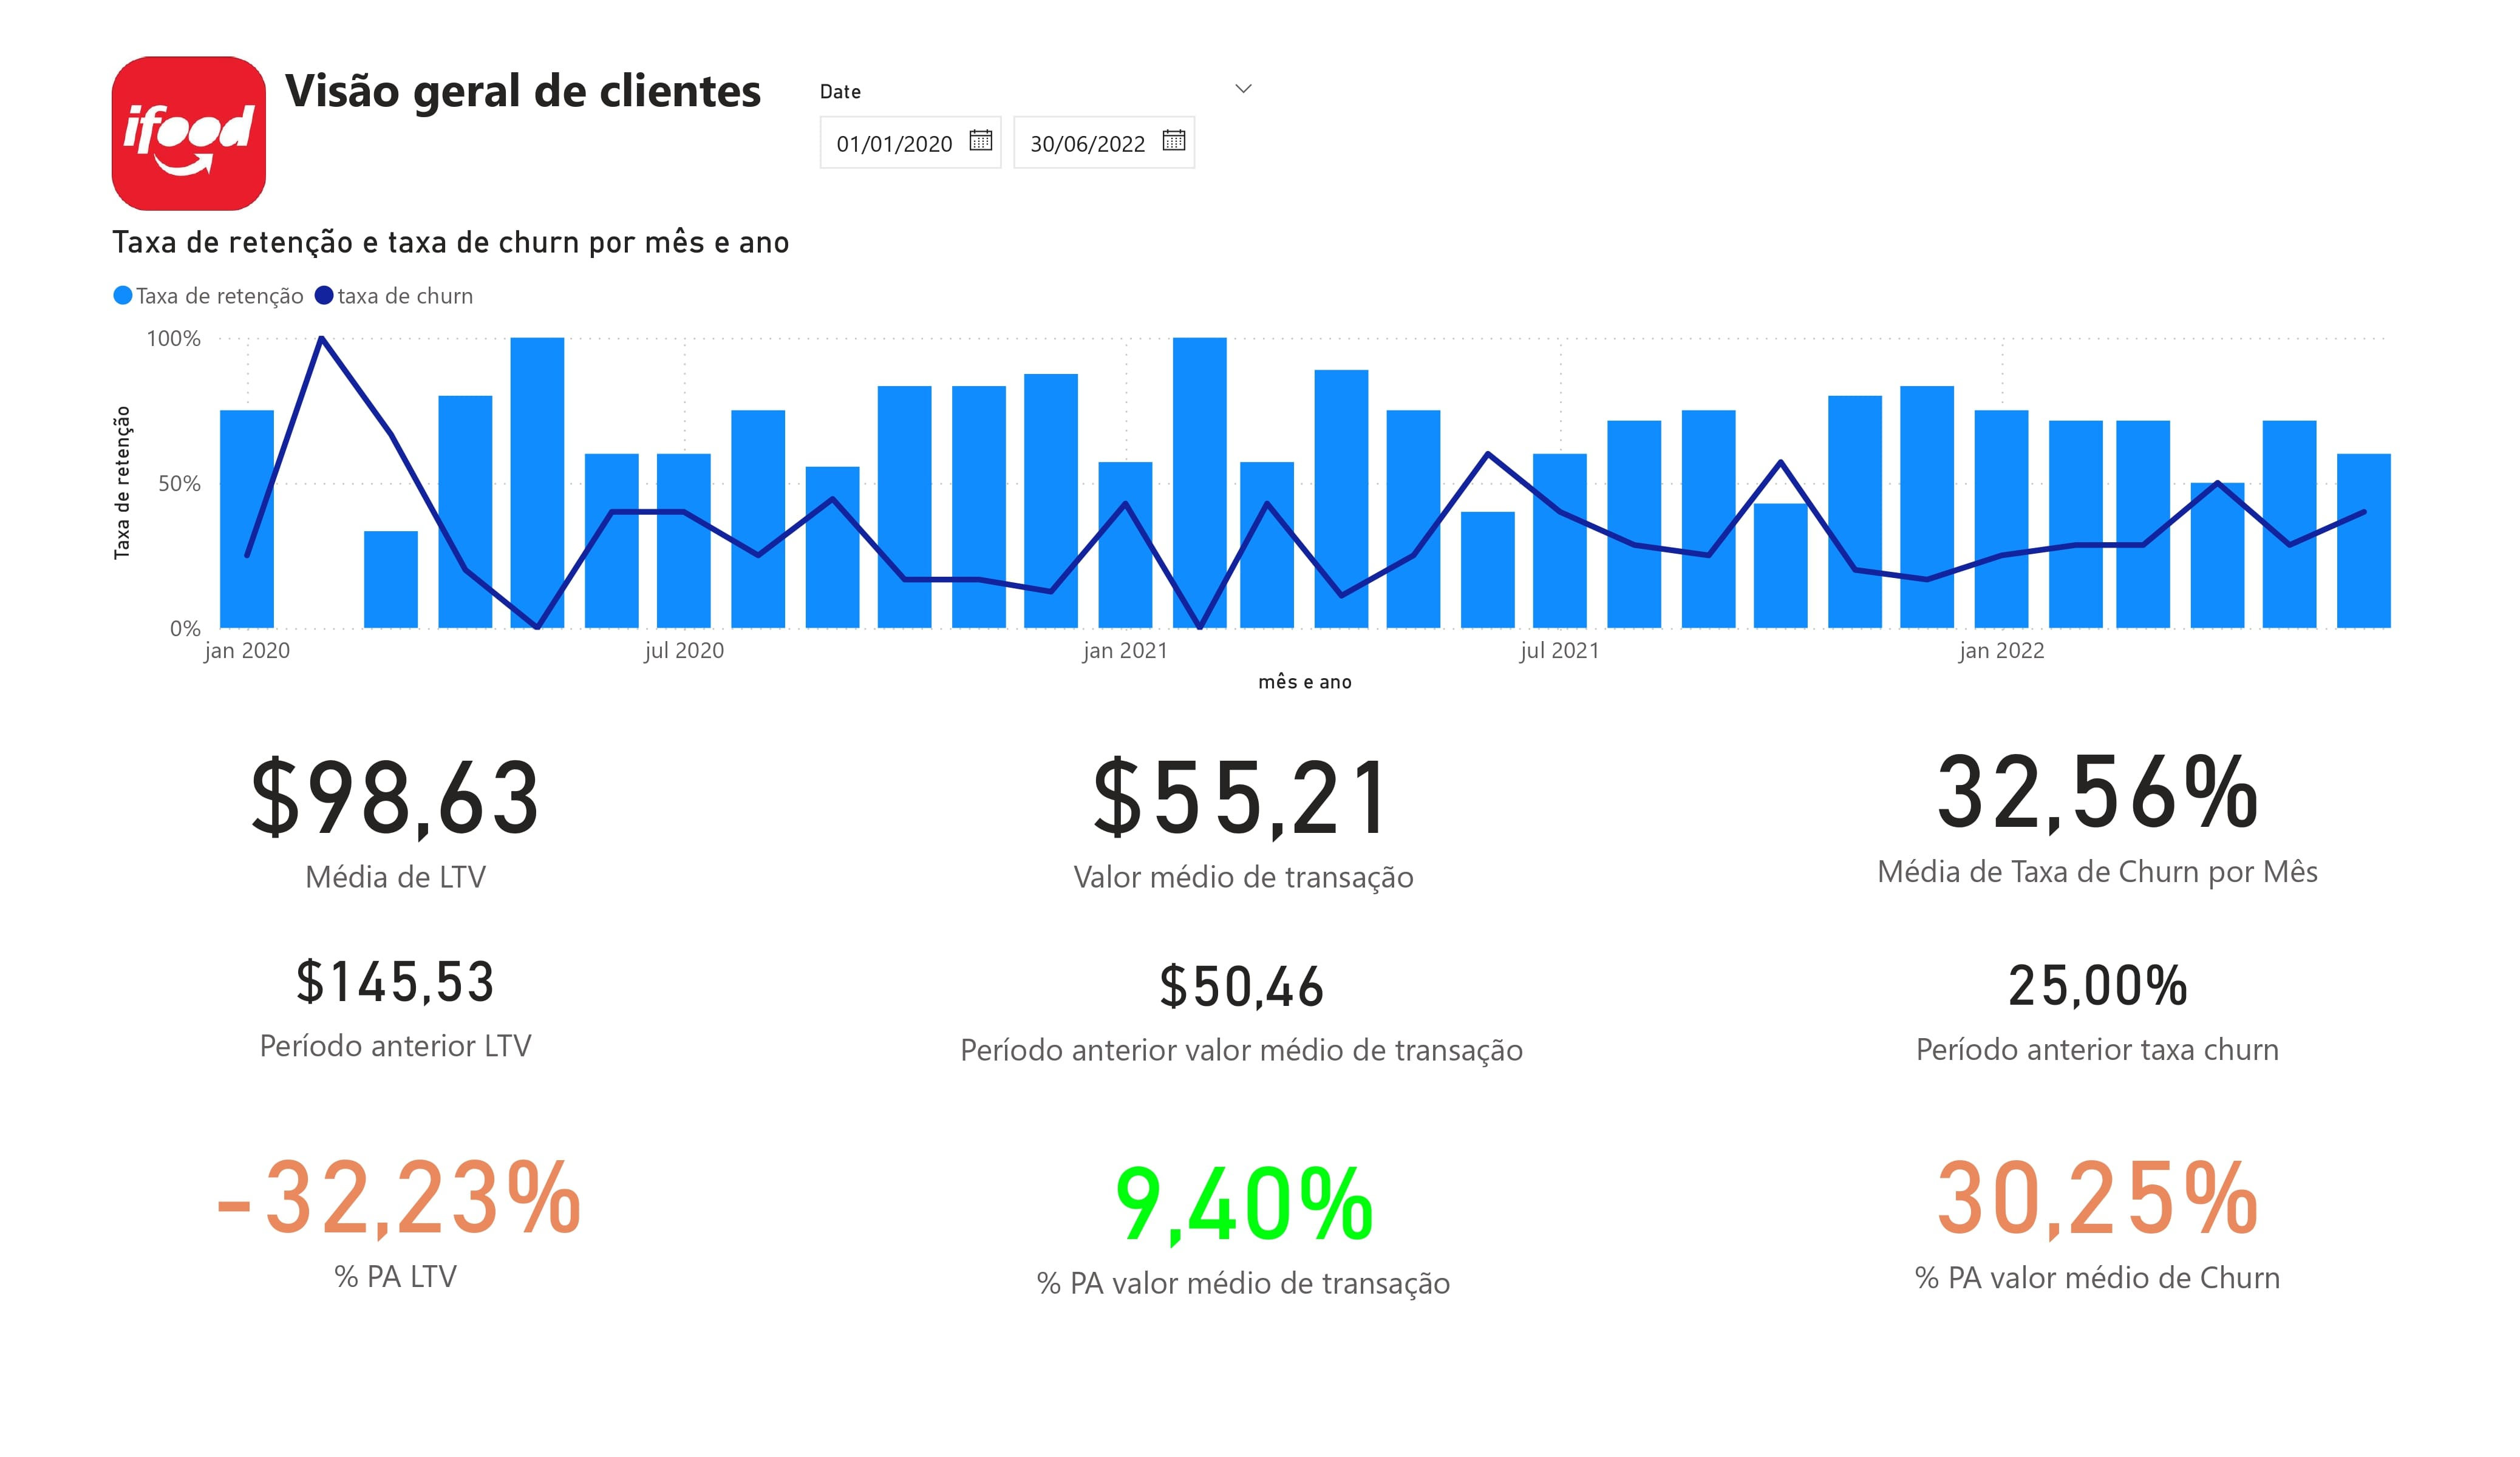

What the dashboard file says about the page in this screenshot:
{"tool":"powerbi","page":{"name":"Geral","canvas":[1280,720],"ordinal":0},"visuals":[{"type":"lineStackedColumnComboChart","fields":{"Category":["Tabela 1 (clientes).mes_ano.Variation.Hierarquia de datas.Ano"],"Y":["Tabela 1 (clientes).Taxa de retenção"],"Y2":["Tabela 1 (clientes).Taxa de Churn"]},"box":[29.6,93.2,1221.2,252.7],"z":0},{"type":"card","fields":{"Values":["Avg(Tabela 1 (clientes).LTV)"]},"box":[54,345.8,261.4,107.1],"z":1000},{"type":"slicer","fields":{"Values":["TabelaDatas.Date"]},"box":[395.3,12.7,254.1,63.5],"z":2000},{"type":"card","fields":{"Values":["Tabela 1 (clientes).Período anterior"]},"box":[53.6,450.4,261.2,103.1],"z":3000},{"type":"card","fields":{"Values":["Tabela 1 (clientes).% PA LTV"]},"box":[54,552.9,261.4,114.3],"z":4000},{"type":"card","fields":{"Values":["Avg(Tabela 1 (clientes).total_valor)"]},"box":[504.3,345.7,254.3,107.1],"z":5000},{"type":"card","fields":{"Values":["Tabela 1 (clientes).Período anterior valor médio de transação"]},"box":[458.8,450.4,343.1,107.3],"z":6000},{"type":"card","fields":{"Values":["Tabela 1 (clientes).% PA valor médio de transação"]},"box":[504.3,560,254.3,107.1],"z":7000},{"type":"card","fields":{"Values":["Tabela 1 (clientes).Média de Taxa de Churn por Mês"]},"box":[954.3,342.9,254.3,107.1],"z":8000},{"type":"card","fields":{"Values":["Tabela 1 (clientes).Período anterior taxa churn"]},"box":[954.3,450,254.3,107.1],"z":9000},{"type":"card","fields":{"Values":["Tabela 1 (clientes).% PA valor médio de Churn"]},"box":[954.3,557.1,254.3,107.1],"z":10000},{"type":"image","box":[29.6,0,91.8,93.2],"z":11000},{"type":"textbox","box":[121.4,1.4,273.9,43.8],"z":12000}]}

Visuals, with their boxes on the page's 1280x720 design canvas (x1, y1, x2, y2). These are canvas units, not pixel positions in the 2520x1457 screenshot, which may show the page scaled, cropped or inside an application window:
lineStackedColumnComboChart - Tabela 1 (clientes).mes_ano.Variation.Hierarquia de datas.Ano x Tabela 1 (clientes).Taxa de retenção: box(30, 93, 1251, 346)
card - Avg(Tabela 1 (clientes).LTV): box(54, 346, 315, 453)
slicer - TabelaDatas.Date: box(395, 13, 649, 76)
card - Tabela 1 (clientes).Período anterior: box(54, 450, 315, 554)
card - Tabela 1 (clientes).% PA LTV: box(54, 553, 315, 667)
card - Avg(Tabela 1 (clientes).total_valor): box(504, 346, 759, 453)
card - Tabela 1 (clientes).Período anterior valor médio de transação: box(459, 450, 802, 558)
card - Tabela 1 (clientes).% PA valor médio de transação: box(504, 560, 759, 667)
card - Tabela 1 (clientes).Média de Taxa de Churn por Mês: box(954, 343, 1209, 450)
card - Tabela 1 (clientes).Período anterior taxa churn: box(954, 450, 1209, 557)
card - Tabela 1 (clientes).% PA valor médio de Churn: box(954, 557, 1209, 664)
image: box(30, 0, 121, 93)
textbox: box(121, 1, 395, 45)
